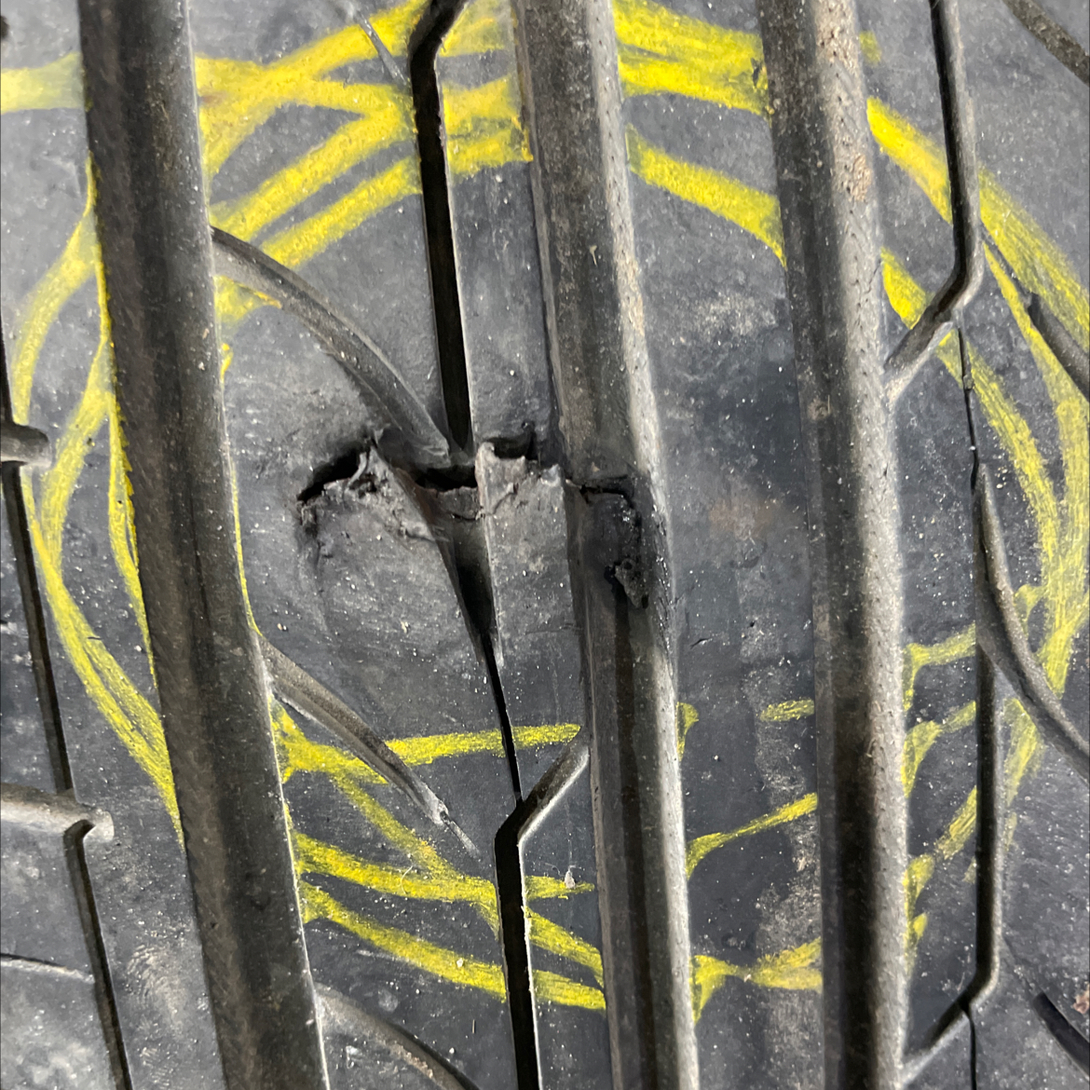tr: (289, 415, 667, 628)
